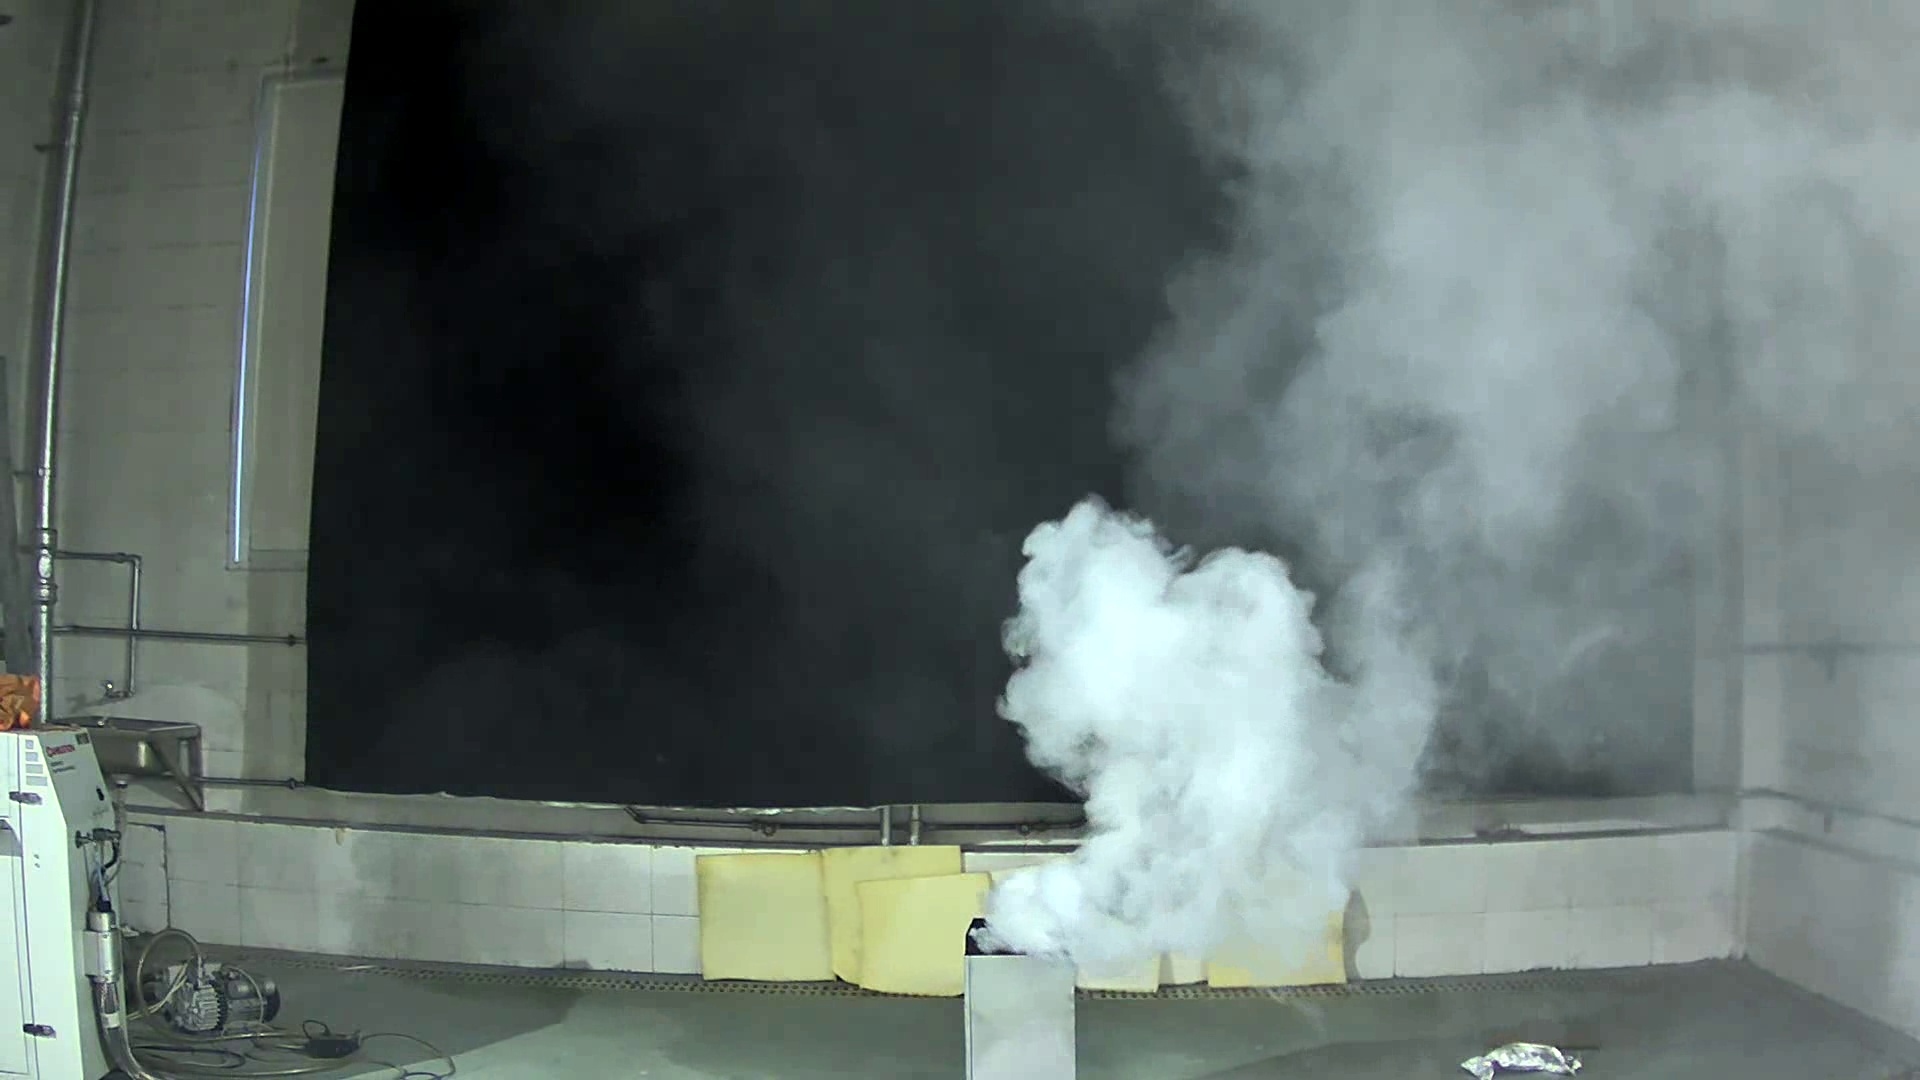smoke: (944, 513, 1444, 951)
